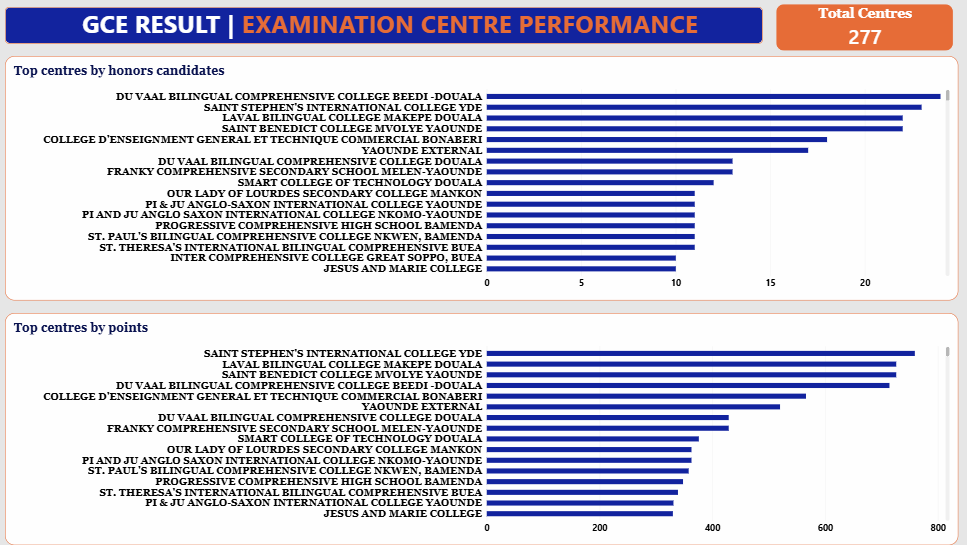

The dashboard page shown, as its layout file describes it:
{"tool":"powerbi","page":{"name":"Centres","canvas":[1920,1080],"ordinal":3},"visuals":[{"type":"shape","box":[24,24,1488,72],"z":1000},{"type":"textbox","box":[120,24,1320,72],"z":2000},{"type":"barChart","title":"Top centres by honors candidates","fields":{"Category":["Honor Roll candidates.Exam Centre Name"],"Y":["Honor Roll candidates.Total Honors Candidates"]},"box":[24,120,1872,480],"z":14002},{"type":"cardVisual","fields":{"Data":["Honor Roll candidates.Total Centres"]},"box":[1536,16,352,96],"z":14003},{"type":"barChart","title":"Top centres by points","fields":{"Category":["Honor Roll candidates.Exam Centre Name"],"Y":["Sum(Honor Roll candidates.Points)"]},"box":[24,624,1872,456],"z":14004}]}

Visuals, with their boxes in screenshot pixels (x1, y1, x2, y2), scaled from the page's 1920x1080 canvas onto the 967x545 screenshot:
shape: detection(12, 12, 762, 48)
textbox: detection(60, 12, 725, 48)
"Top centres by honors candidates" barChart: detection(12, 61, 955, 303)
cardVisual - Honor Roll candidates.Total Centres: detection(774, 8, 951, 57)
"Top centres by points" barChart: detection(12, 315, 955, 544)
